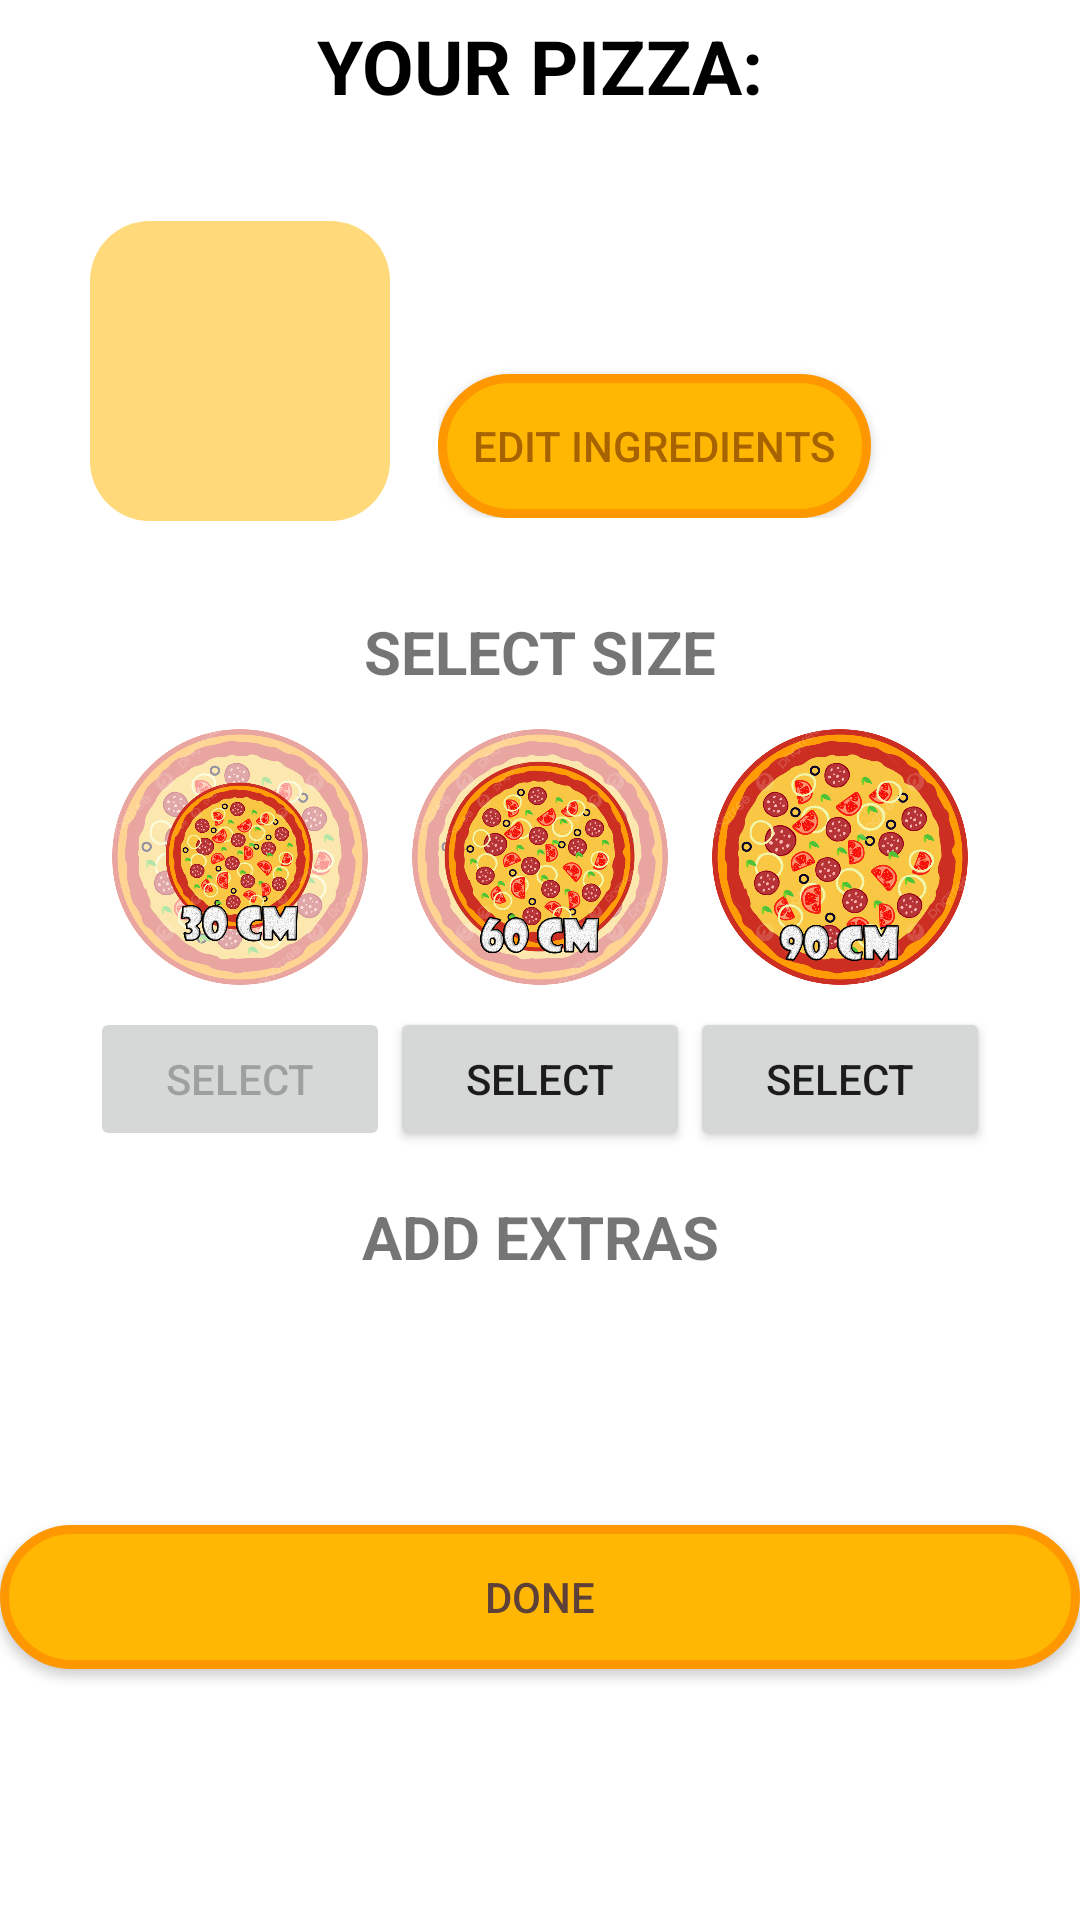

Where icons sit on this 1080 x 1920 app screen, as (x1, y1, x2, y2):
huge pizza: (712, 729, 968, 985)
meduim pizza: (412, 729, 668, 985)
pizza: (112, 729, 368, 985)
